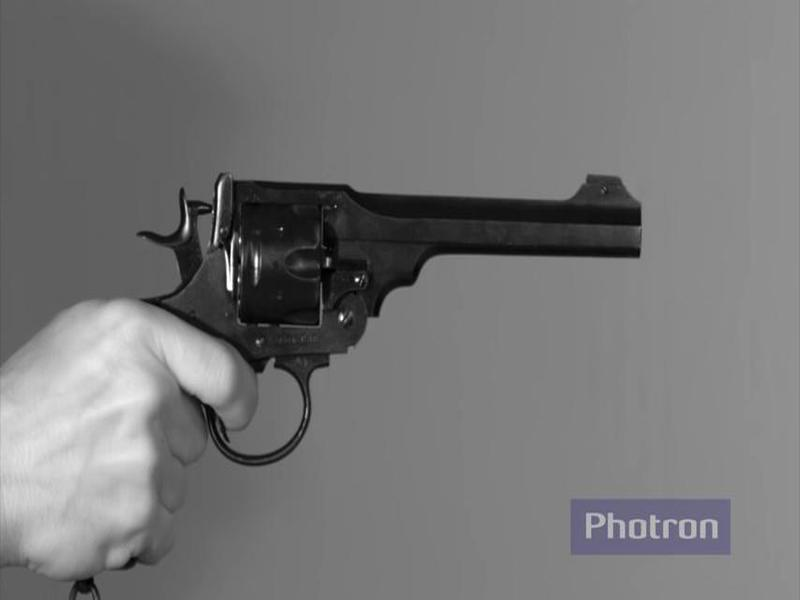Revolver: (102, 110, 638, 490)
